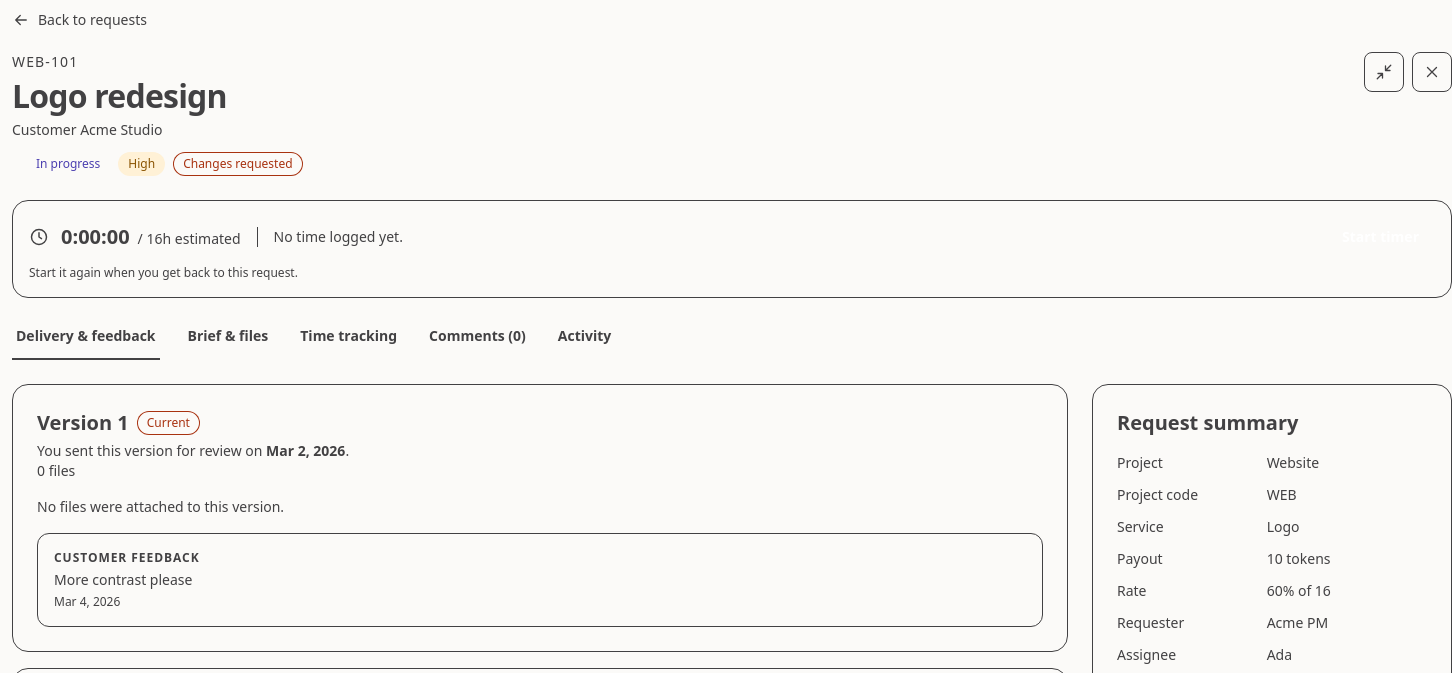
it: Creative job detail › shows customer feedback with the version and separates comments
Check: the text "More contrast please" is shown, box [54,570,192,589]
Check: the text "Changes requested" is shown, box [173,152,303,176]
Step 1. Click the tab "Comments (0)" → (477,341), box [425,322,530,360]
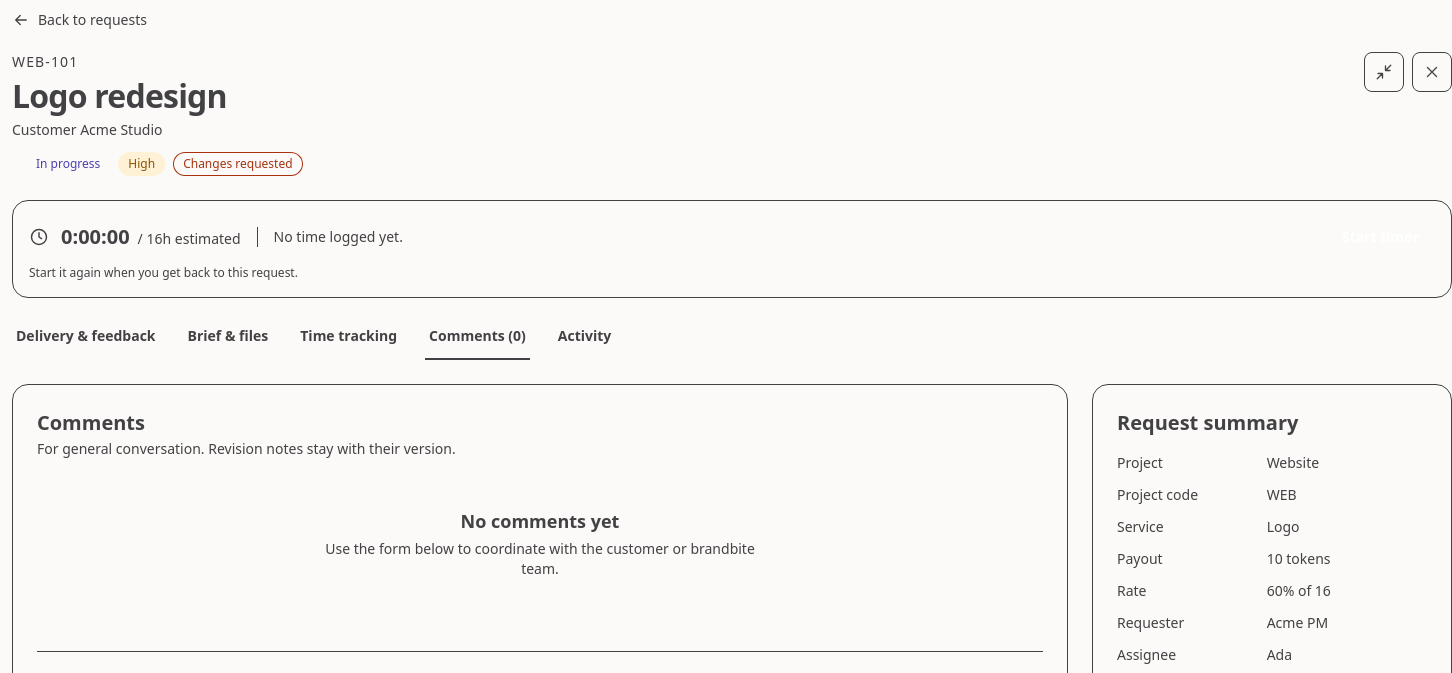
Check: the text "More contrast please" is gone
